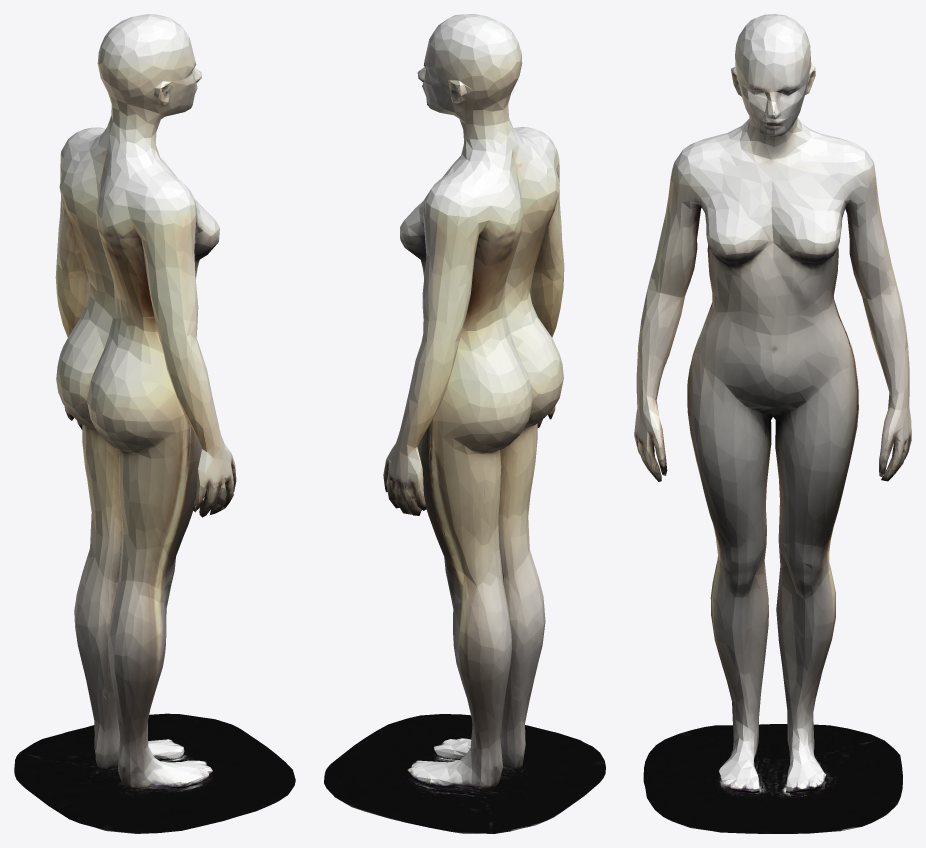
File: Normal_Pear.glb
3 renders of one model, left to right at view 1: azimuth 30°, elevation 25°; view 2: azimuth 150°, elevation 25°; view 3: azimuth 270°, elevation 25°, orthographic.
Visible parts, largest first — view 1: world; view 2: world; view 3: world.
Part boxes in pixels (x1,y1,x2,y2): world: [14, 14, 295, 833]; world: [324, 14, 605, 833]; world: [634, 14, 911, 833].
Size of the model in its own units: 0.3087 by 0.9994 by 0.3326.
Materials: 1 (1 with a texture image).
